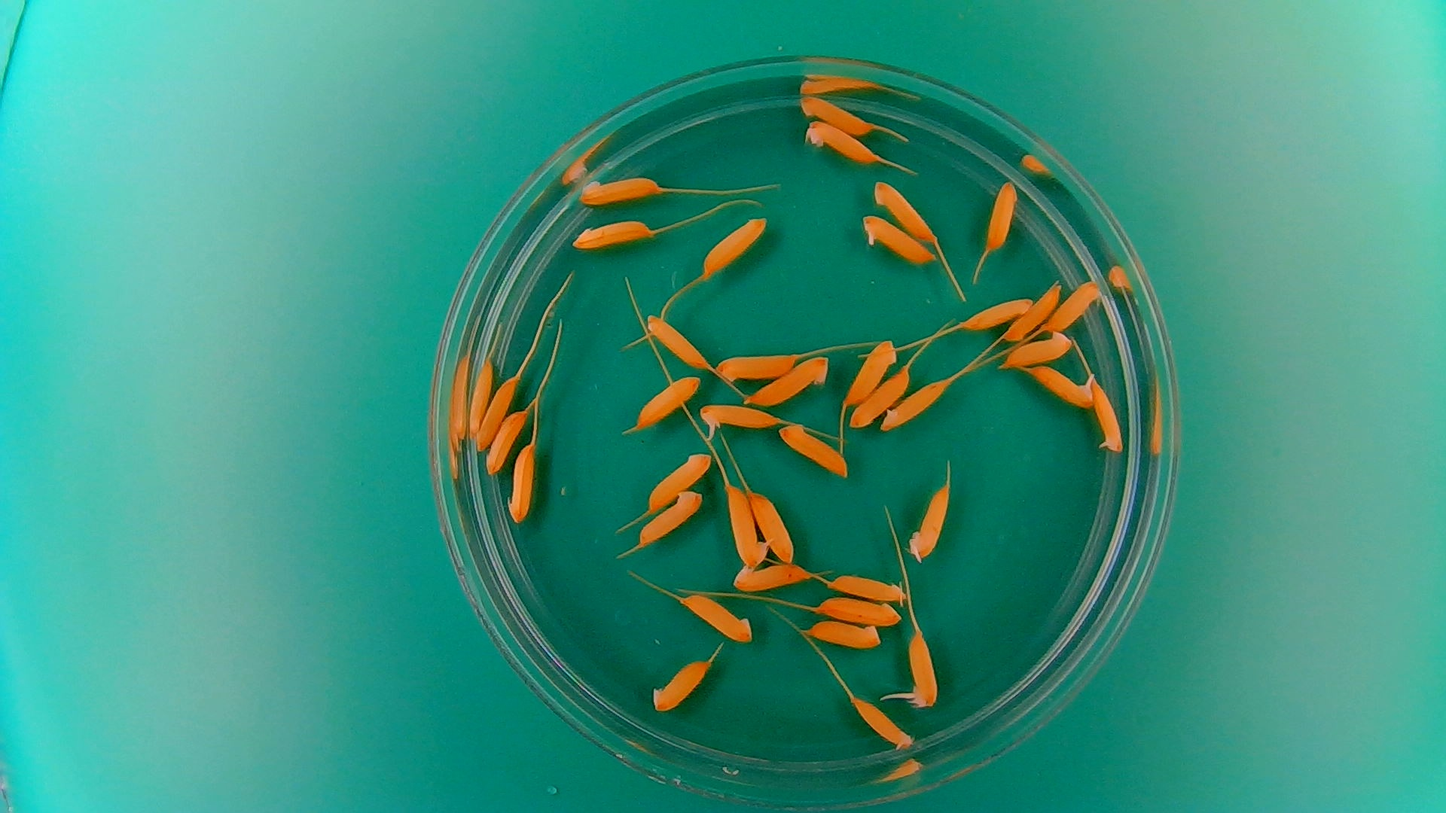no: (743, 353, 835, 408), (776, 419, 852, 480), (871, 181, 939, 248), (698, 215, 768, 279), (634, 488, 706, 550), (641, 309, 712, 370), (848, 363, 912, 429), (645, 450, 713, 512), (679, 590, 755, 644), (631, 373, 702, 430), (880, 376, 949, 433), (1004, 278, 1063, 343), (801, 117, 880, 164), (1038, 278, 1103, 335), (474, 371, 520, 451), (843, 338, 897, 406), (795, 93, 880, 136), (748, 486, 795, 563), (651, 656, 712, 714), (851, 697, 915, 752), (577, 168, 663, 207), (569, 215, 655, 252), (485, 406, 529, 477), (713, 349, 801, 384), (504, 437, 538, 525), (1002, 330, 1075, 370), (816, 595, 904, 628), (465, 356, 496, 446), (960, 293, 1035, 330), (984, 177, 1020, 254), (729, 559, 810, 592), (804, 618, 884, 651)
yes: (724, 482, 776, 568), (856, 212, 935, 265), (905, 478, 953, 563), (694, 399, 780, 440), (1024, 363, 1097, 409), (902, 629, 941, 710), (1090, 375, 1126, 456)
